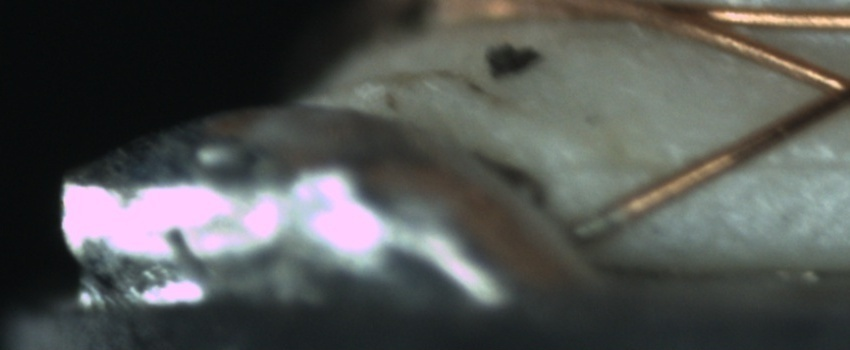CL: (799, 56, 850, 119)
DL: (607, 135, 849, 201)
TS: (574, 205, 625, 242)
